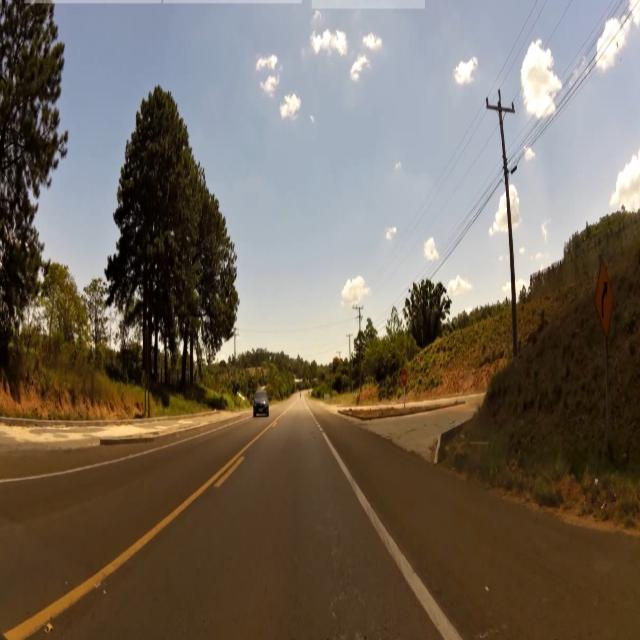A-2b: (594, 260, 618, 332)
